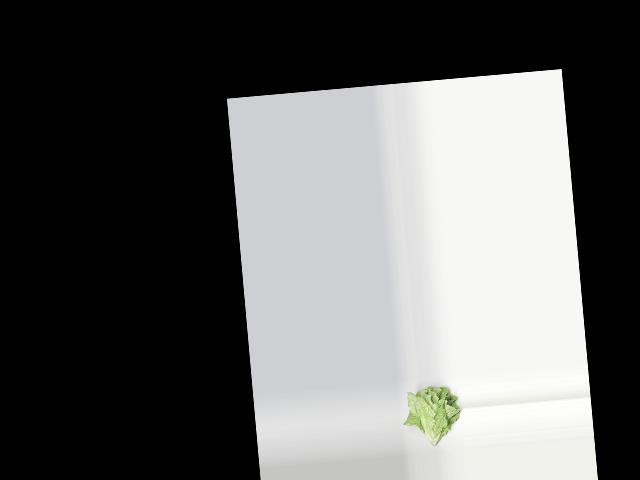lettuce: (406, 380, 462, 450)
